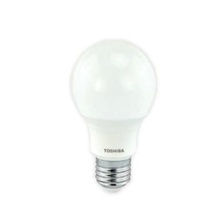light_bulb: (62, 31, 161, 195)
